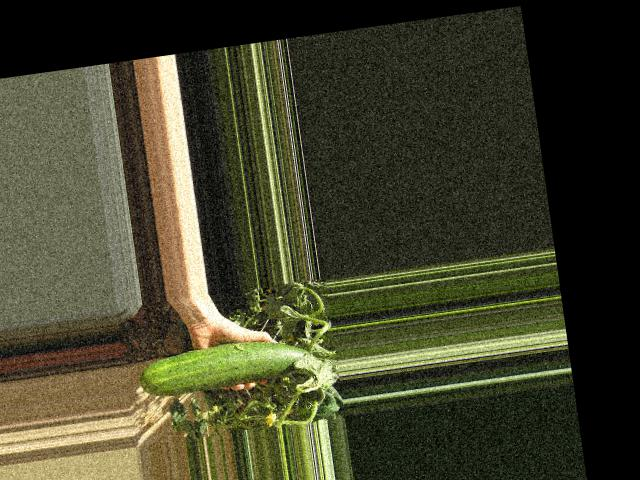cucumber: (136, 332, 314, 400)
